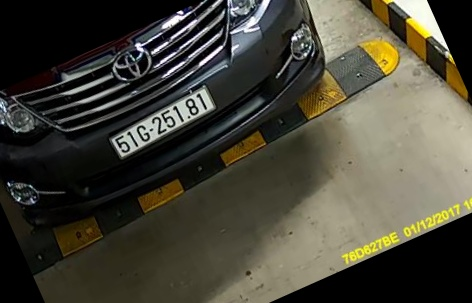plate: (110, 86, 215, 167)
